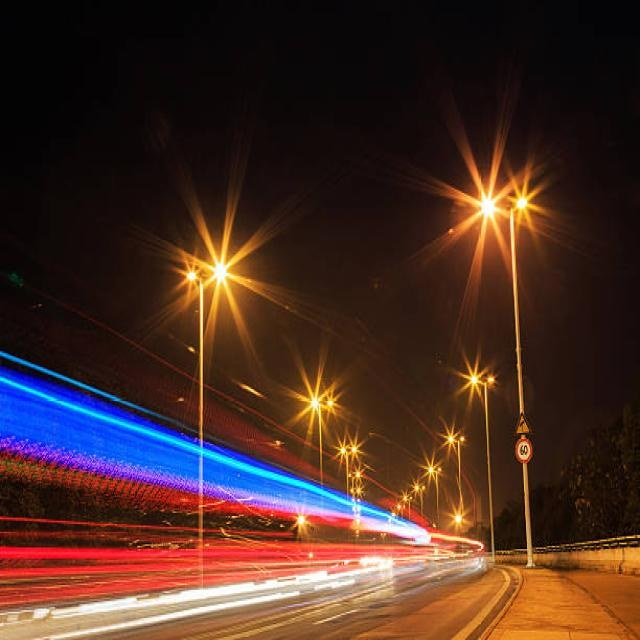acesa: (438, 154, 511, 256), (287, 360, 345, 448), (205, 219, 254, 310), (494, 164, 553, 226), (457, 361, 494, 404), (177, 246, 199, 304), (438, 418, 466, 456)
